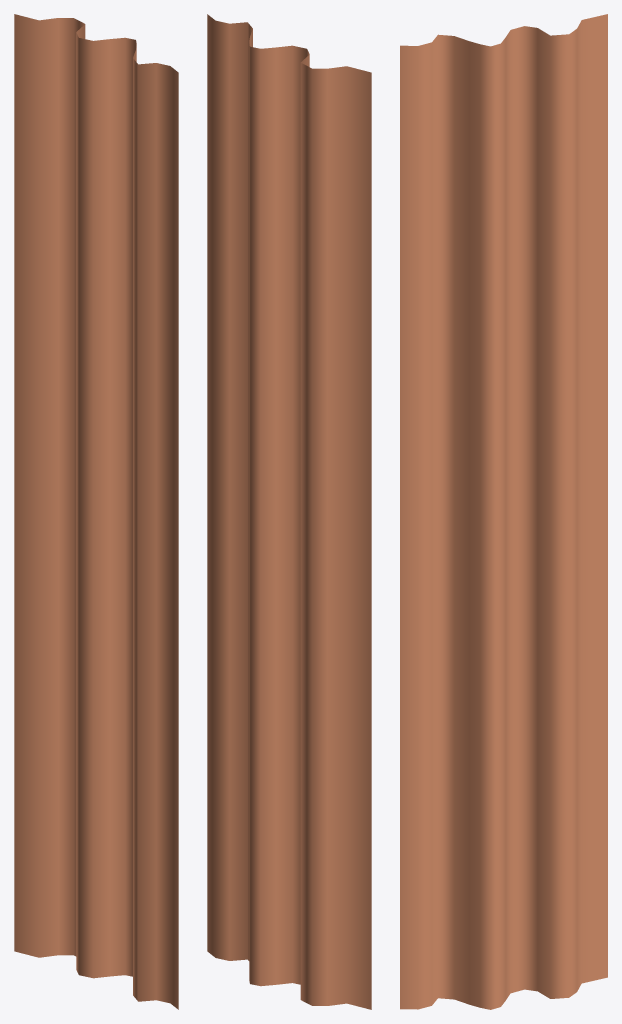
The model's file is OT_008_orange_curtains_var1.glb.
3 renders of one model, left to right at view 1: azimuth 30°, elevation 25°; view 2: azimuth 210°, elevation 25°; view 3: azimuth 270°, elevation 25°, orthographic. The views are drawn at different scales.
Parts seen in each view (by area): view 1: curtains_front, curtains_back; view 2: curtains_front, curtains_back; view 3: curtains_front, curtains_back.
Boxes of the visible parts, x1,y1,x2,y2 form: curtains_front: (14,14,178,1009); curtains_back: (14,18,178,1007); curtains_front: (207,14,371,1009); curtains_back: (207,19,371,1007); curtains_front: (400,14,607,1009); curtains_back: (400,15,607,1009).
Bounding box in the file's own units: 0.2776 × 3.84 × 0.7512.
